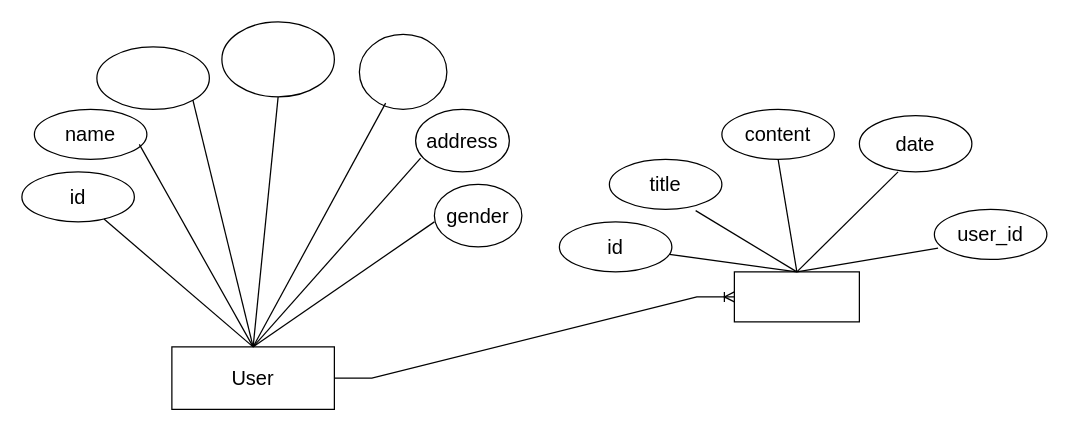
Image size: 1069x431. Some labels were removed from this diagram. The centre of each missing label's shape, as x and y in pixels:
email: [152,77]
Notes: [796,296]
password: [277,59]
role: [402,71]
